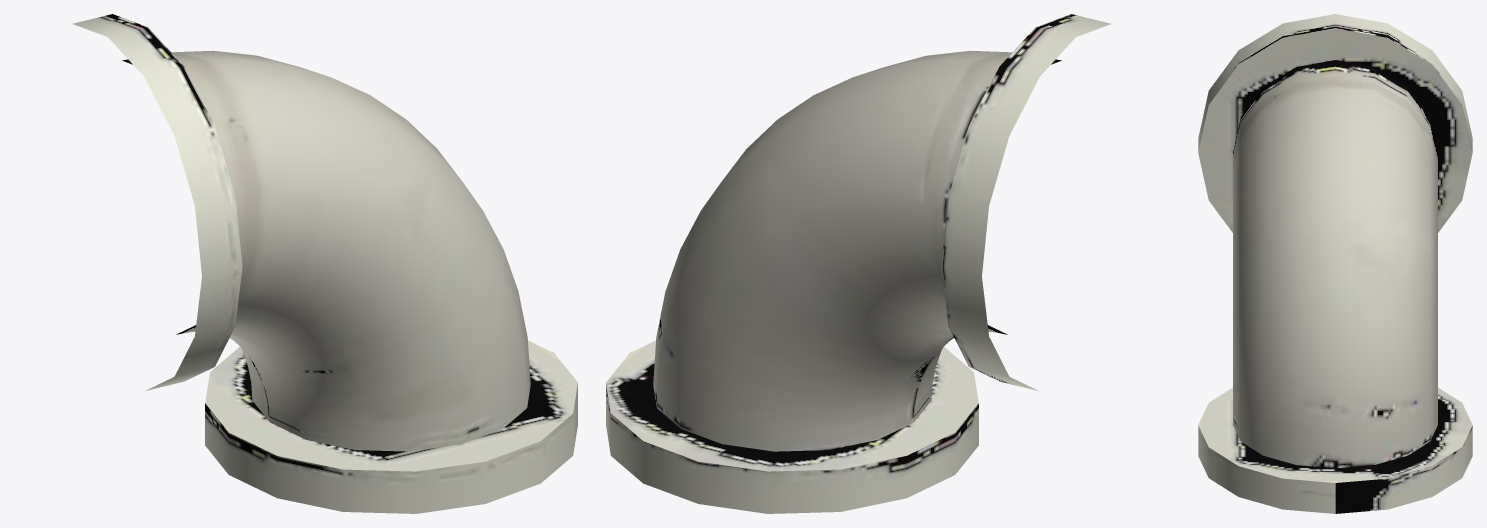
3 views of the same model, side by side, from view 1: azimuth 30°, elevation 25°; view 2: azimuth 150°, elevation 25°; view 3: azimuth 270°, elevation 25° (orthographic). The views are drawn at different scales.
Parts seen in each view (by area): view 1: body0_model0_lod0_mesh0; view 2: body0_model0_lod0_mesh0; view 3: body0_model0_lod0_mesh0.
Part boxes in pixels (x1,y1,x2,y2): body0_model0_lod0_mesh0: (72, 14, 577, 513); body0_model0_lod0_mesh0: (606, 14, 1111, 513); body0_model0_lod0_mesh0: (1198, 14, 1472, 513).
Size of the model in its own units: 44.08 by 44.08 by 32.16.
1 material, 1 textured.
